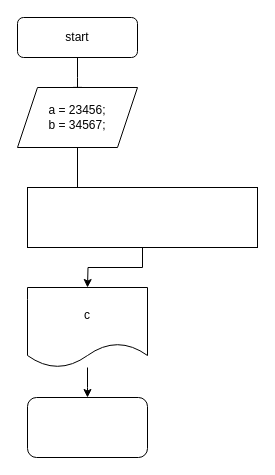
The diagram is 275 pixels wide and 475 high, and some of its shapes have lost their labels. The centre of each missing label's shape, as x and y in pixels:
c = (a + b + 500000) * 10 + 5;: [142,217]
end: [87,427]
